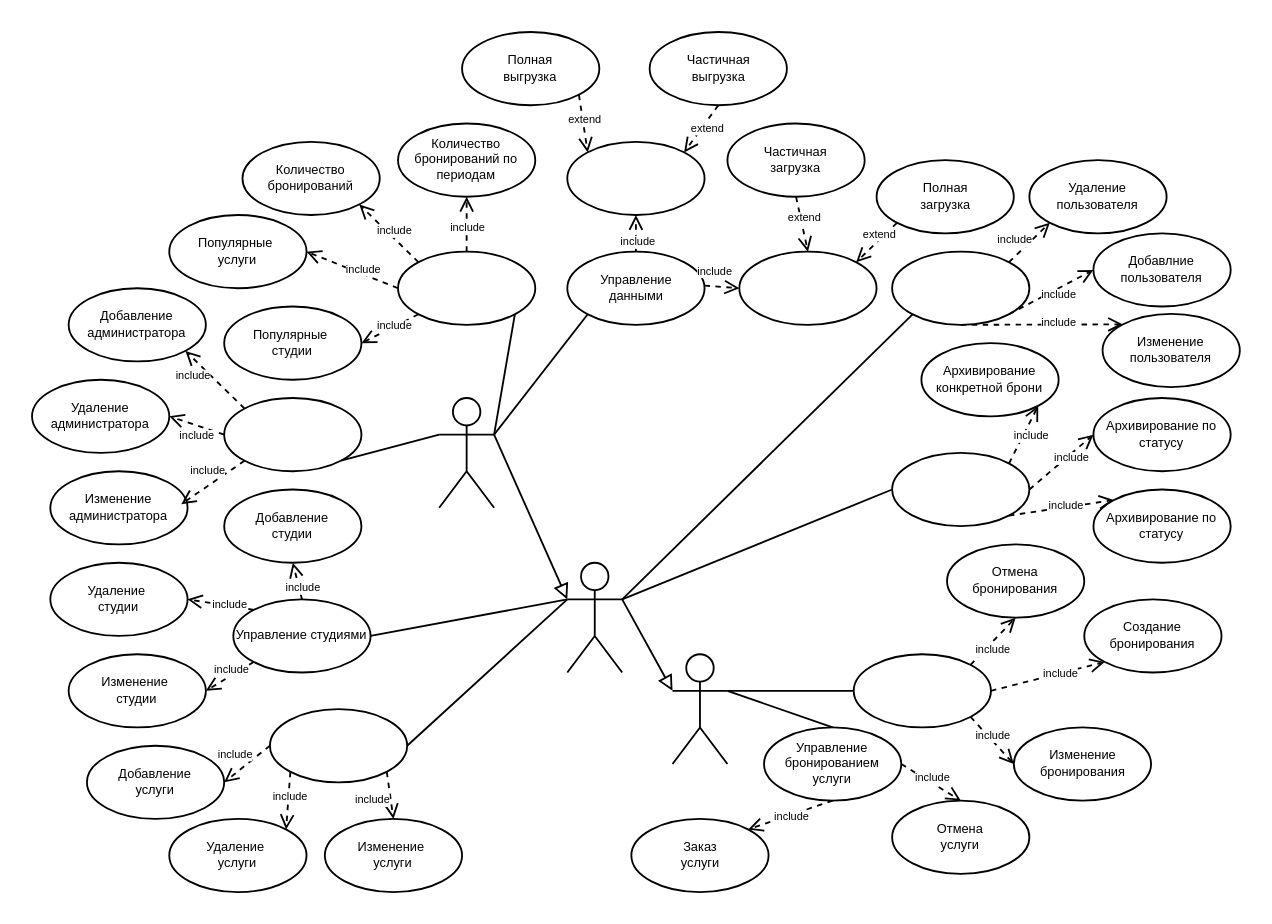
The diagram is 1272 pixels wide and 924 high, and some of its shapes have lost their labels. The centre of each missing label's shape, as x and y in pixels:
"Админ" belongs at [593,617].
"Архивирование бронирований" belongs at [959,488].
"Выгрузка данных" belongs at [635,177].
"Глав-админ" belongs at [465,452].
"Загрузка данных" belongs at [807,287].
"Клиент" belongs at [699,708].
"Работа с аналитикой" belongs at [465,287].
"Управление администраторами" belongs at [291,433].
"Управление бронированием студий" belongs at [921,689].
"Управление пользователями" belongs at [959,287].
"Управление услугами" belongs at [337,744].
